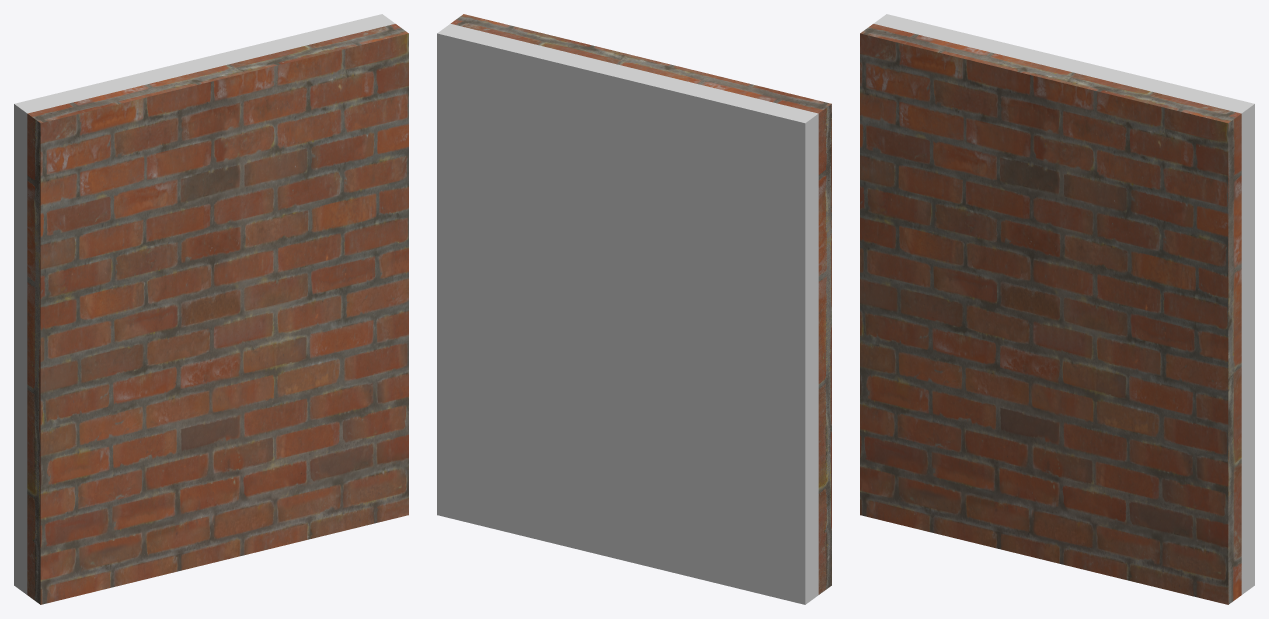
The model's file is Wall.fbx.
3 views of the same model, side by side, from view 1: azimuth 30°, elevation 25°; view 2: azimuth 150°, elevation 25°; view 3: azimuth 330°, elevation 25° (orthographic).
Parts seen in each view (by area): view 1: Wall; view 2: Wall; view 3: Wall.
Part boxes in pixels (box(x1,y1,x2,y2)): Wall: box(14, 14, 408, 604); Wall: box(437, 14, 831, 604); Wall: box(860, 14, 1254, 604).
Bounding box in the file's own units: 400 × 500 × 50.
